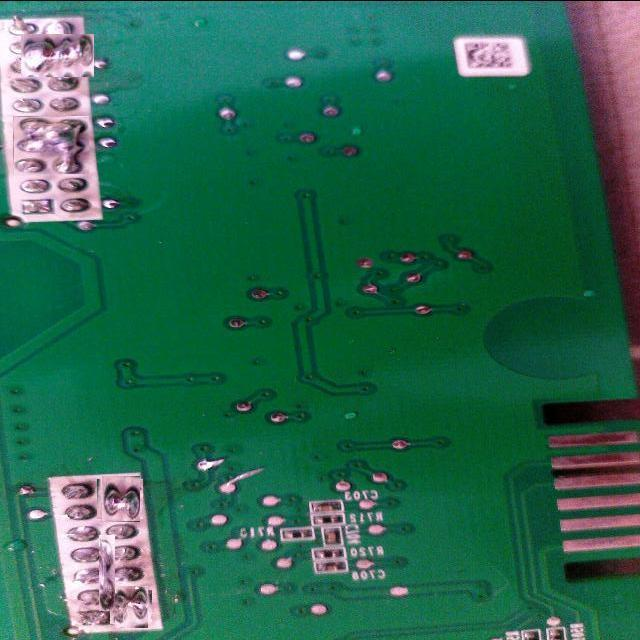Short_circuit: (13, 116, 89, 174), (29, 26, 87, 85), (84, 550, 130, 597), (99, 478, 142, 521), (112, 588, 150, 626)
